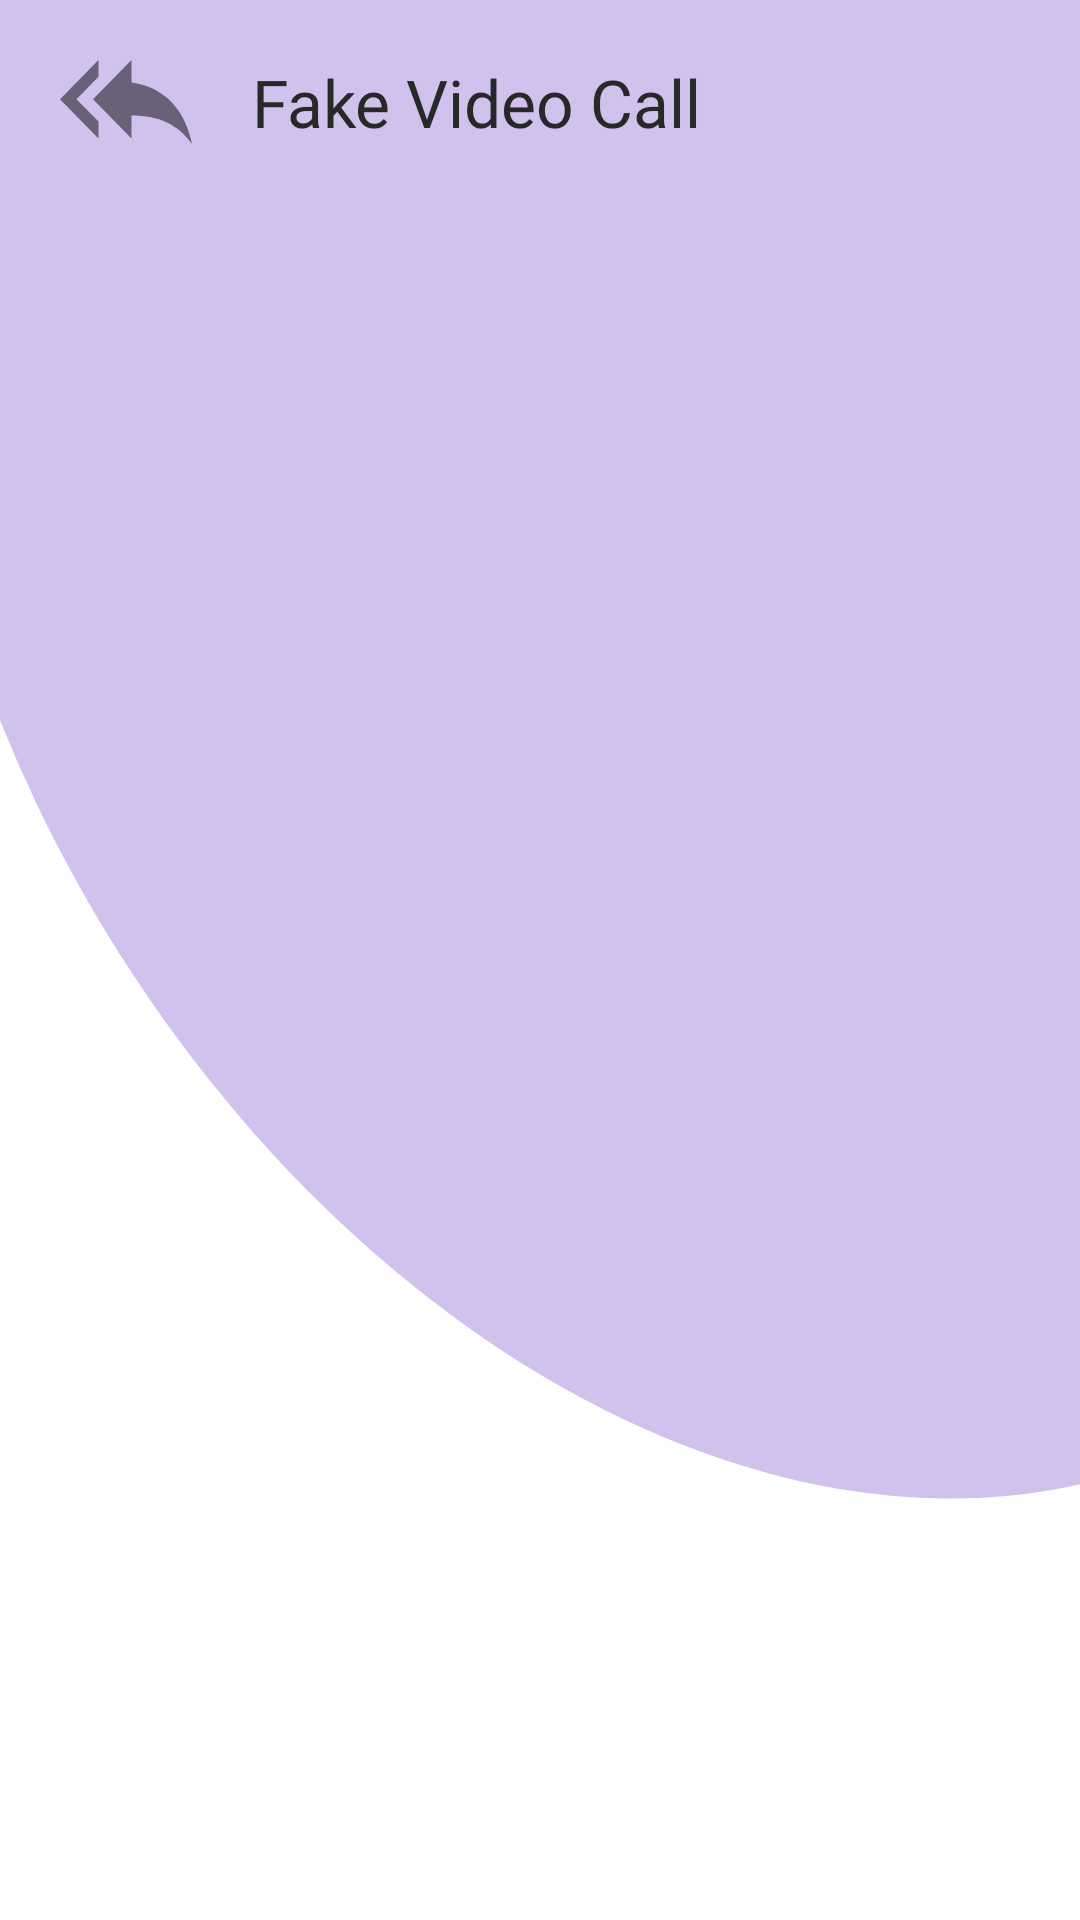

Where icons sit on this 1080×1920 app screen, as (x1,y1,x2,y2):
back: (60,60,192,144)
